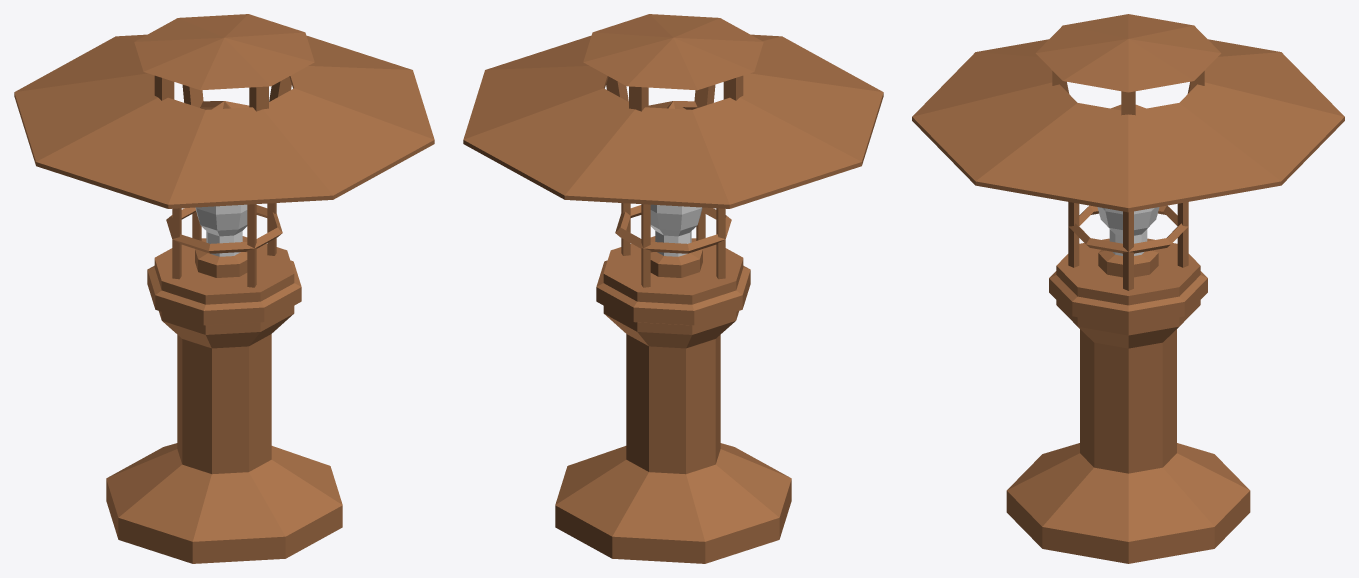
Rendered from Lamp_upper_deck.fbx.
The picture shows the model from 3 angles, left to right: view 1: azimuth 30°, elevation 25°; view 2: azimuth 150°, elevation 25°; view 3: azimuth 270°, elevation 25°; orthographic projection.
Parts seen in each view (by area): view 1: Lamp_Hull; view 2: Lamp_Hull; view 3: Lamp_Hull.
Boxes of the visible parts, x1=… form: Lamp_Hull: x1=14, y1=14, x2=434, y2=563; Lamp_Hull: x1=463, y1=14, x2=883, y2=563; Lamp_Hull: x1=912, y1=14, x2=1344, y2=563.
Size of the model in its own units: 79.24 by 95.69 by 79.24.
